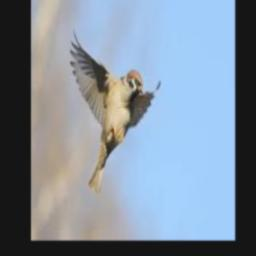Sparrow: (71, 30, 161, 194)
